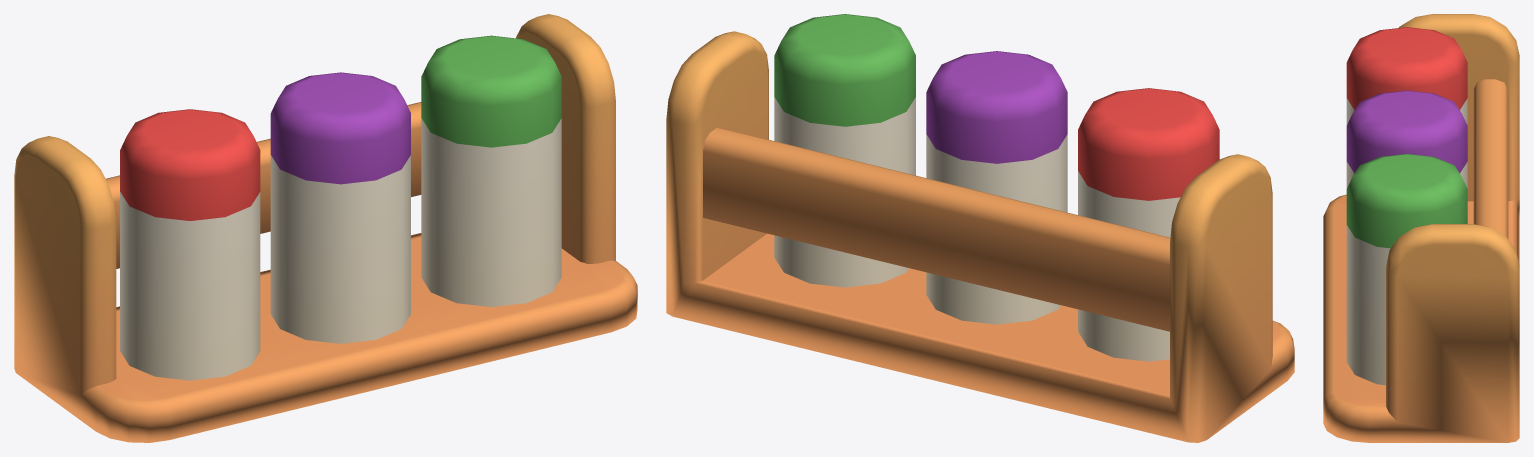
The model's file is Spices_001.fbx.
3 views of the same model, side by side, from view 1: azimuth 30°, elevation 25°; view 2: azimuth 150°, elevation 25°; view 3: azimuth 270°, elevation 25° (orthographic). The views are drawn at different scales.
Visible parts, largest first — view 1: Spices_001; view 2: Spices_001; view 3: Spices_001.
Part boxes in pixels (bbox=[...]): Spices_001: bbox=[14, 14, 637, 442]; Spices_001: bbox=[666, 14, 1294, 442]; Spices_001: bbox=[1323, 14, 1519, 442].
Bounding box in the file's own units: 0.2845 × 0.1308 × 0.1051.
